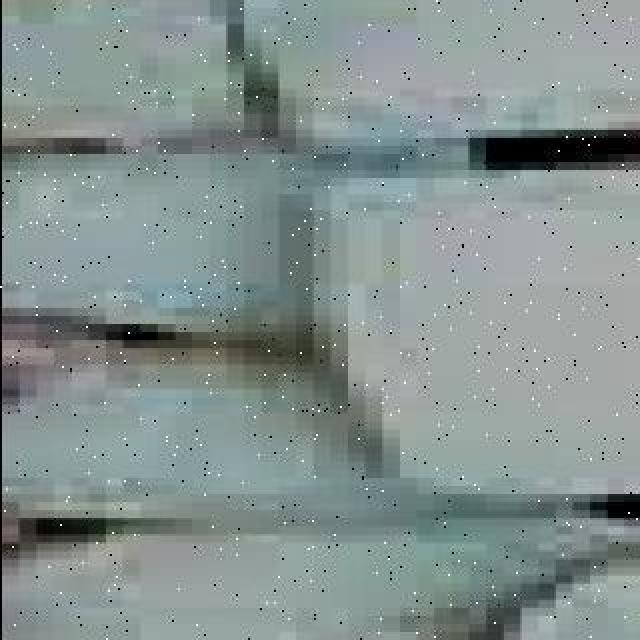spacing: (294, 64, 640, 224), (482, 466, 640, 572), (8, 0, 152, 36)
